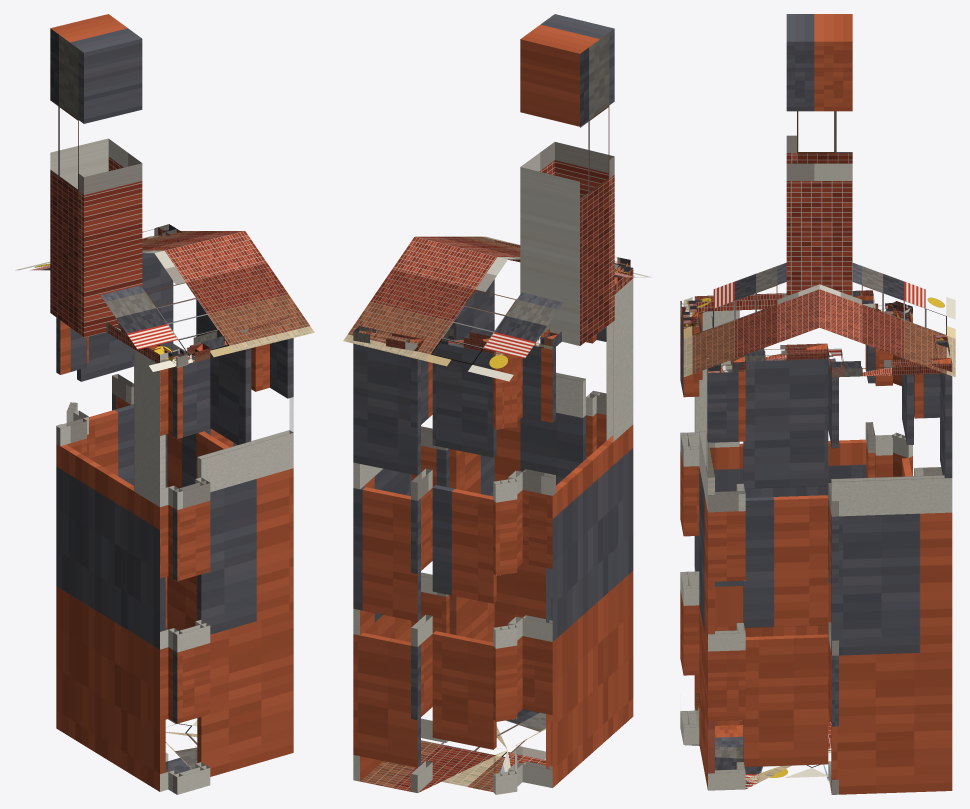
3 renders of one model, left to right at view 1: azimuth 30°, elevation 25°; view 2: azimuth 150°, elevation 25°; view 3: azimuth 270°, elevation 25°, orthographic. The views are drawn at different scales.
Visible parts, largest first — view 1: 316903727__wall_5_xb, 316903727__wall_10_xb, 316903727__chimney_0_xb, 316903727_roof_-1_xb, 316903727__wall_8_xb, 316903727__wall_13_xb, 316903727__wall_18_xb, 316903727__wall_15_xb, 316903727__wall_7_xb, 316903727__wall_6_xb, 316903727__wall_4_xb, 316903727__wall_16_xb (+6 smaller); view 2: 316903727__wall_5_xb, 316903727__chimney_0_xb, 316903727__wall_16_xb, 316903727__wall_18_xb, 316903727_roof_1_xb, 316903727__wall_4_xb, 316903727__wall_10_xb, 316903727__wall_17_xb, 316903727__base, 316903727__wall_13_xb, 316903727__wall_1_xb, 316903727__wall_15_xb (+9 smaller); view 3: 316903727__wall_15_xb, 316903727__wall_13_xb, 316903727__chimney_0_xb, 316903727__wall_11_xb, 316903727__wall_5_xb, 316903727_roof_-1_xb, 316903727_roof_1_xb, 316903727__wall_10_xb, 316903727__wall_9_xb, 316903727__wall_14_xb, 316903727__wall_12_xb, 316903727__base (+11 smaller).
Part boxes in pixels (left/top/right/bottom): 316903727__wall_5_xb: left=56, top=349, right=165, bottom=791; 316903727__wall_10_xb: left=197, top=430, right=293, bottom=776; 316903727__chimney_0_xb: left=50, top=14, right=142, bottom=337; 316903727_roof_-1_xb: left=100, top=231, right=314, bottom=371; 316903727__wall_8_xb: left=173, top=358, right=210, bottom=794; 316903727__wall_13_xb: left=196, top=299, right=251, bottom=620; 316903727__wall_18_xb: left=77, top=332, right=133, bottom=485; 316903727__wall_15_xb: left=167, top=344, right=237, bottom=630; 316903727__wall_7_xb: left=168, top=366, right=182, bottom=794; 316903727__wall_6_xb: left=160, top=368, right=168, bottom=791; 316903727__wall_4_xb: left=56, top=317, right=86, bottom=456; 316903727__wall_16_xb: left=112, top=253, right=173, bottom=628; 316903727__wall_5_xb: left=546, top=278, right=633, bottom=787; 316903727__chimney_0_xb: left=520, top=14, right=614, bottom=345; 316903727__wall_16_xb: left=353, top=343, right=420, bottom=767; 316903727__wall_18_xb: left=432, top=343, right=496, bottom=749; 316903727_roof_1_xb: left=343, top=236, right=562, bottom=381; 316903727__wall_4_xb: left=522, top=344, right=555, bottom=787; 316903727__wall_10_xb: left=494, top=373, right=585, bottom=627; 316903727__wall_17_xb: left=411, top=353, right=432, bottom=792; 316903727__base: left=360, top=709, right=545, bottom=792; 316903727__wall_13_xb: left=449, top=279, right=494, bottom=642; 316903727__wall_1_xb: left=493, top=353, right=513, bottom=794; 316903727__wall_15_xb: left=353, top=462, right=411, bottom=781; 316903727__wall_15_xb: left=831, top=475, right=952, bottom=794; 316903727__wall_13_xb: left=743, top=358, right=828, bottom=766; 316903727__chimney_0_xb: left=786, top=14, right=852, bottom=296; 316903727__wall_11_xb: left=707, top=369, right=744, bottom=790; 316903727__wall_5_xb: left=694, top=310, right=873, bottom=725; 316903727_roof_-1_xb: left=683, top=262, right=819, bottom=376; 316903727_roof_1_xb: left=819, top=263, right=955, bottom=377; 316903727__wall_10_xb: left=699, top=431, right=714, bottom=789; 316903727__wall_9_xb: left=683, top=324, right=699, bottom=744; 316903727__wall_14_xb: left=828, top=358, right=838, bottom=794; 316903727__wall_12_xb: left=736, top=372, right=745, bottom=789; 316903727__base: left=685, top=722, right=831, bottom=792.
Size of the model in its own units: 0.4588 by 1.75 by 0.6269.
Materials: 1 (1 with a texture image).
